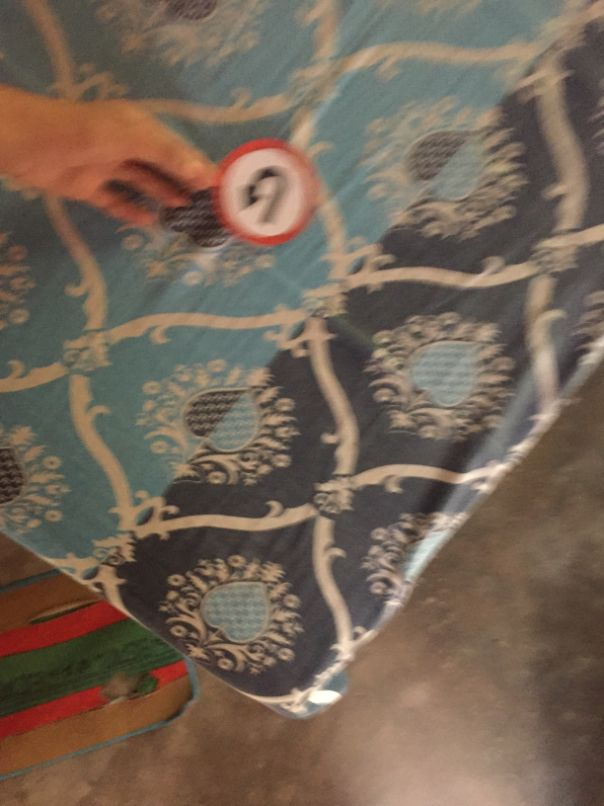u-turn: (217, 140, 320, 243)
